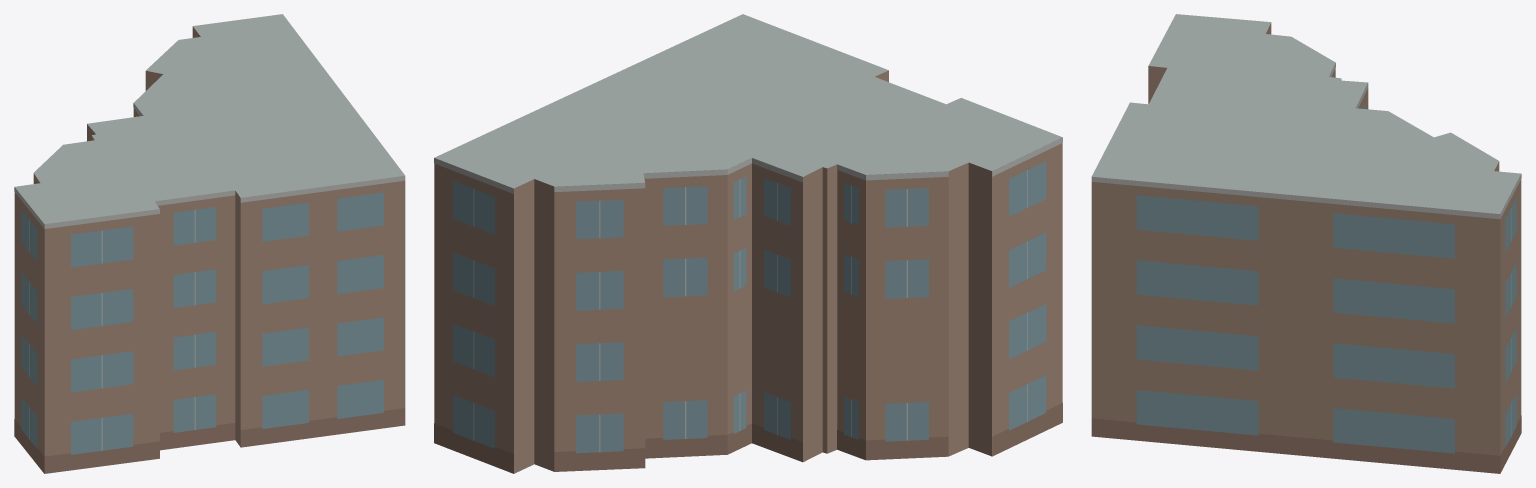
Rendered from survey-upis-32683455.glb.
The picture shows the model from 3 angles, left to right: view 1: azimuth 30°, elevation 25°; view 2: azimuth 150°, elevation 25°; view 3: azimuth 270°, elevation 25°; orthographic projection. The views are drawn at different scales.
Parts seen in each view (by area): view 1: survey-upis-32683455.tmp; view 2: survey-upis-32683455.tmp; view 3: survey-upis-32683455.tmp.
Part boxes in pixels (bbox=[...]): survey-upis-32683455.tmp: bbox=[14, 14, 405, 473]; survey-upis-32683455.tmp: bbox=[434, 14, 1062, 473]; survey-upis-32683455.tmp: bbox=[1091, 14, 1521, 473].
Bounding box in the file's own units: 20.71 × 12.53 × 18.8.
